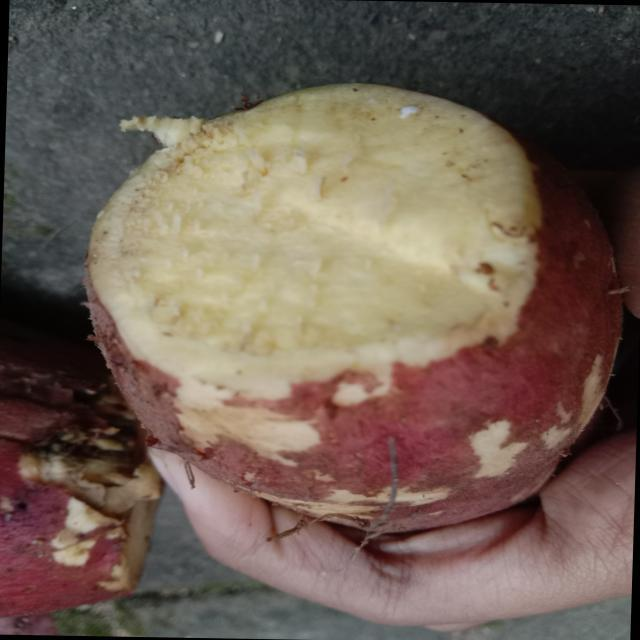Healthy Sweet Potato: (87, 84, 542, 398)
